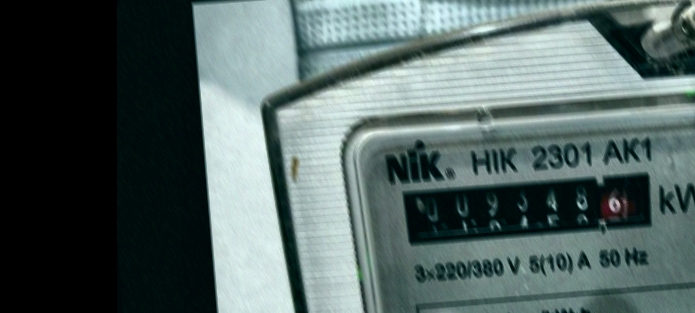0: (425, 196, 443, 223), (456, 190, 472, 217)
3: (517, 186, 533, 212)
4: (544, 182, 564, 213)
6: (607, 185, 626, 215)
8: (576, 182, 593, 211)
9: (487, 191, 503, 219)
screen: (387, 157, 670, 258)
